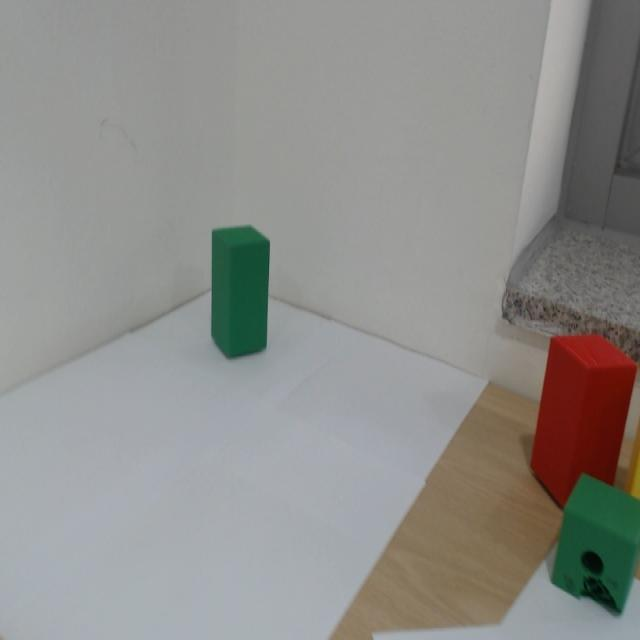cube: (185, 183, 286, 374)
